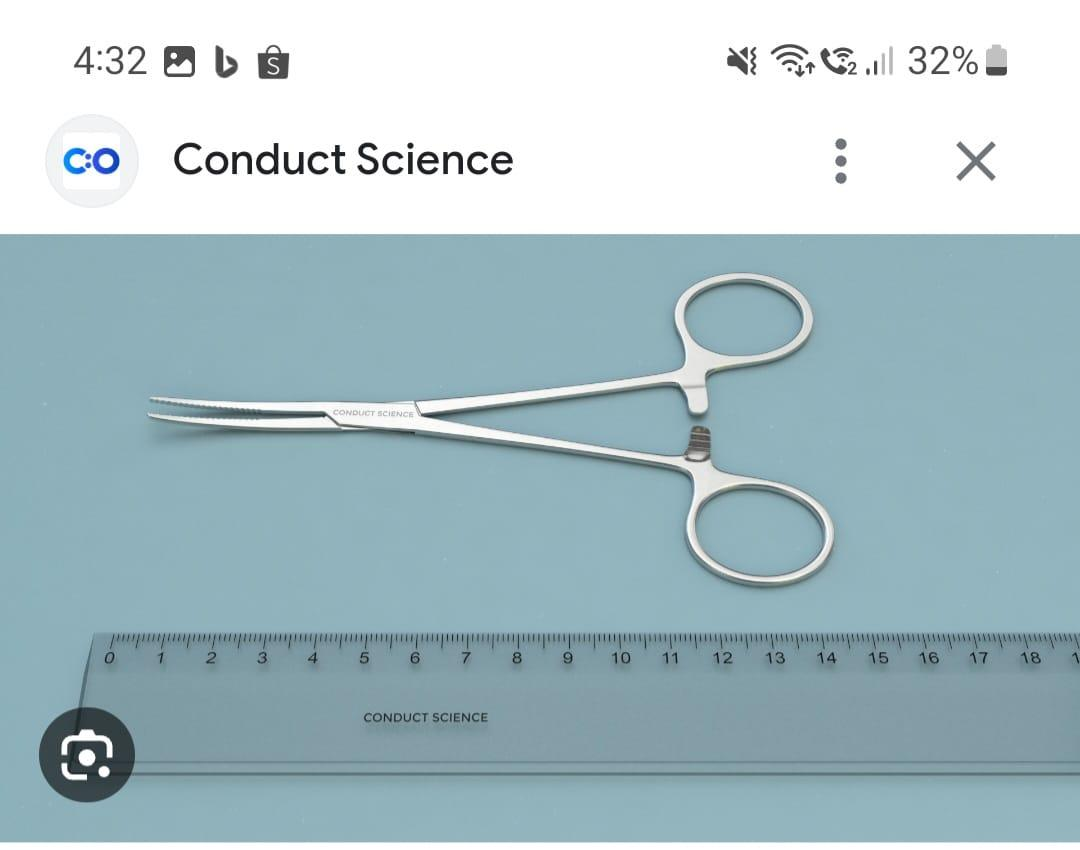Artery Forceps: (145, 255, 846, 588)
